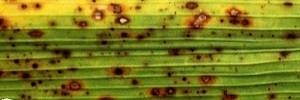RiceBrownSpot: (2, 3, 263, 100)
